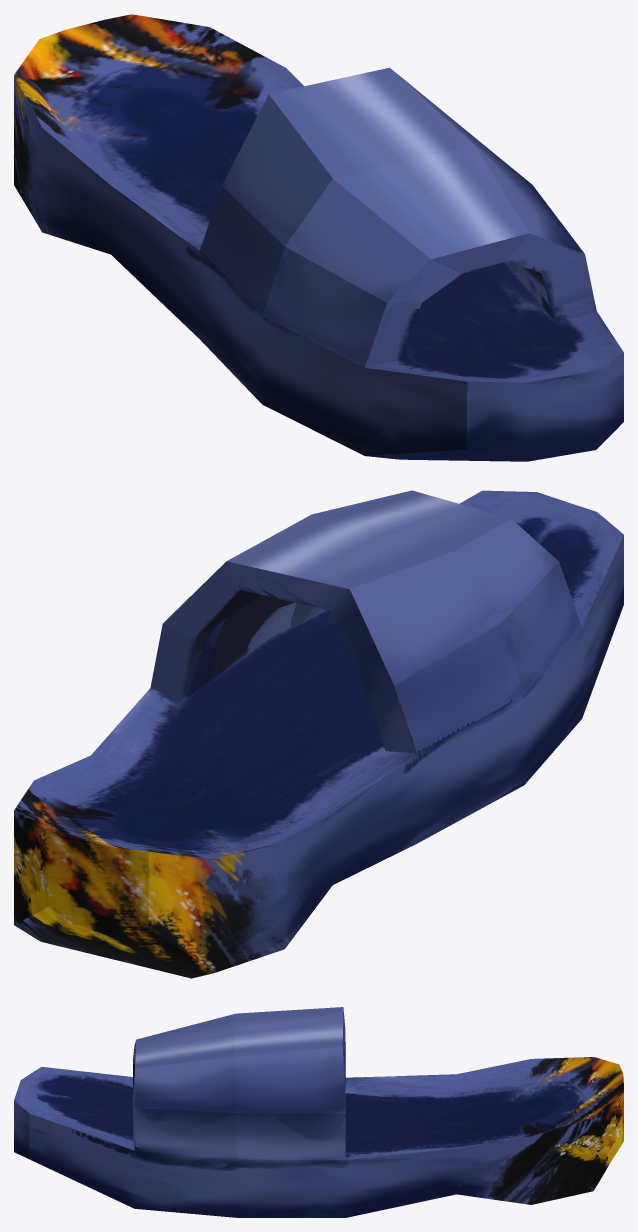
The model's file is klapek z tekstura.glb.
3 renders of one model, top to bottom at view 1: azimuth 30°, elevation 25°; view 2: azimuth 150°, elevation 25°; view 3: azimuth 270°, elevation 25°, orthographic. The views are drawn at different scales.
Visible parts, largest first — view 1: pCube1; view 2: pCube1; view 3: pCube1.
Boxes of the visible parts, x1,y1,x2,y2 form: pCube1: (14,14,623,461); pCube1: (14,490,623,978); pCube1: (14,1007,623,1217).
Bounding box in the file's own units: 3.97 × 3.24 × 11.46.
Materials: 1 (1 with a texture image).
